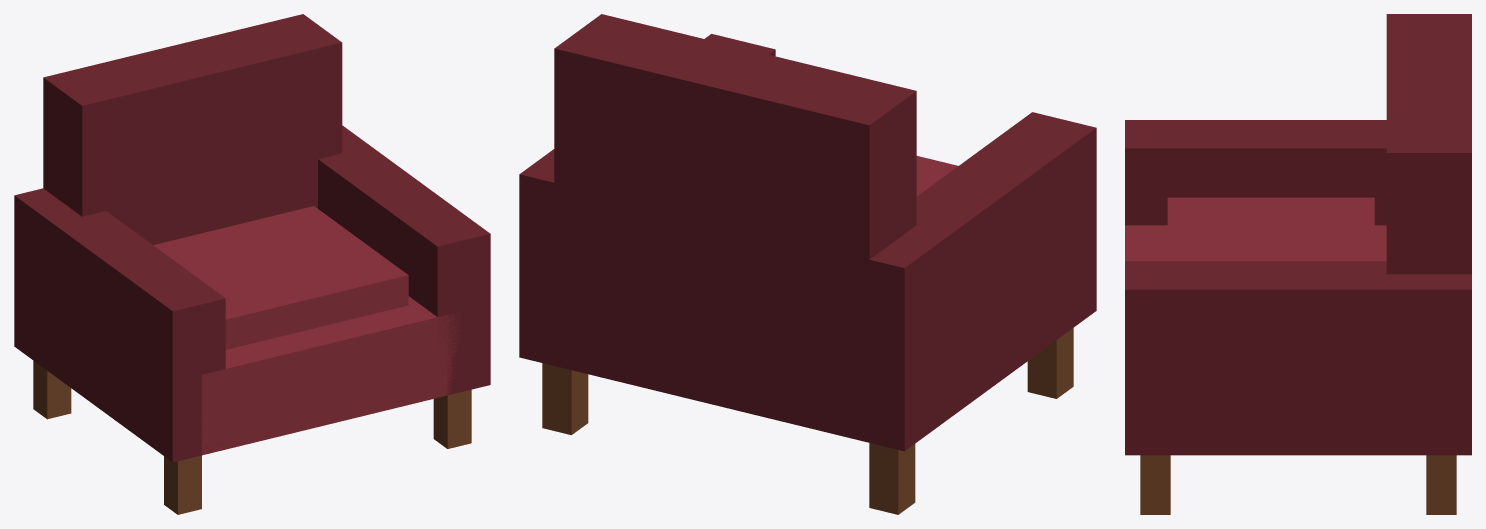
The model's file is waiting-armchair.glb.
3 renders of one model, left to right at view 1: azimuth 30°, elevation 25°; view 2: azimuth 150°, elevation 25°; view 3: azimuth 270°, elevation 25°, orthographic. The views are drawn at different scales.
Visible parts, largest first — view 1: waiting-armchair; view 2: waiting-armchair; view 3: waiting-armchair.
Part boxes in pixels (bbox=[...]): waiting-armchair: bbox=[14, 14, 490, 514]; waiting-armchair: bbox=[519, 14, 1096, 514]; waiting-armchair: bbox=[1125, 14, 1471, 514].
Bounding box in the file's own units: 0.66 × 0.64 × 0.57.
1 material, 1 textured.
